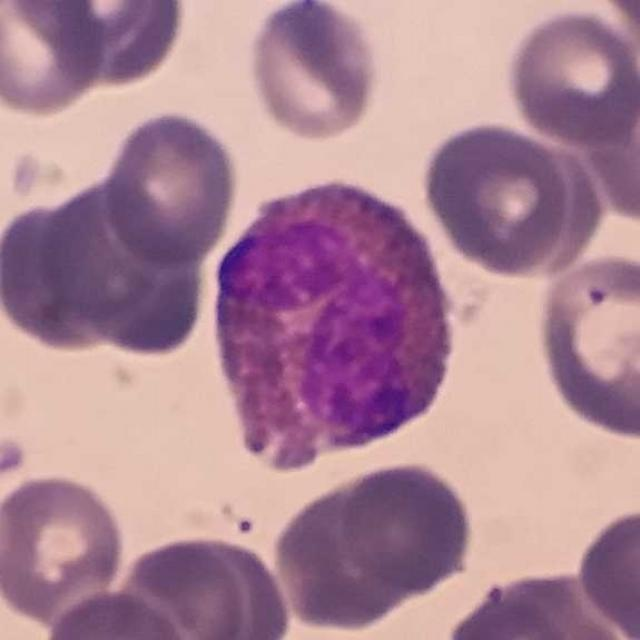Eosinophil: (197, 158, 473, 495)
Platelets: (0, 434, 30, 482)
RBC: (416, 117, 589, 279), (270, 466, 436, 634), (99, 106, 243, 268), (66, 206, 212, 363), (1, 193, 140, 356), (329, 456, 478, 606), (531, 249, 640, 443), (243, 0, 385, 145), (104, 530, 290, 640), (0, 468, 129, 626), (502, 5, 640, 149), (41, 0, 192, 91), (443, 566, 621, 640), (0, 1, 108, 119), (579, 54, 639, 228), (571, 501, 640, 638), (36, 587, 192, 640), (11, 1, 169, 45), (596, 1, 640, 59)
